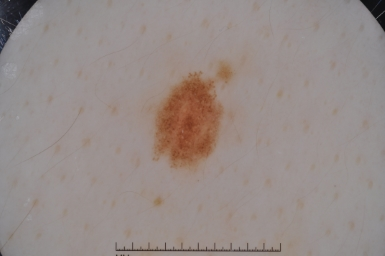nevus: (151, 72, 220, 168)
